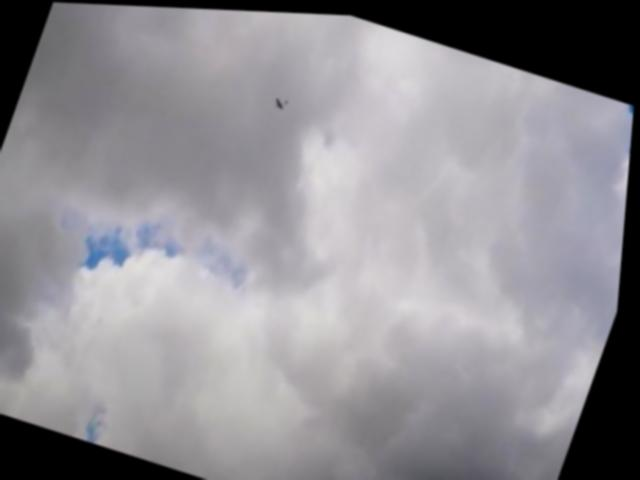iha: (267, 88, 296, 116)
